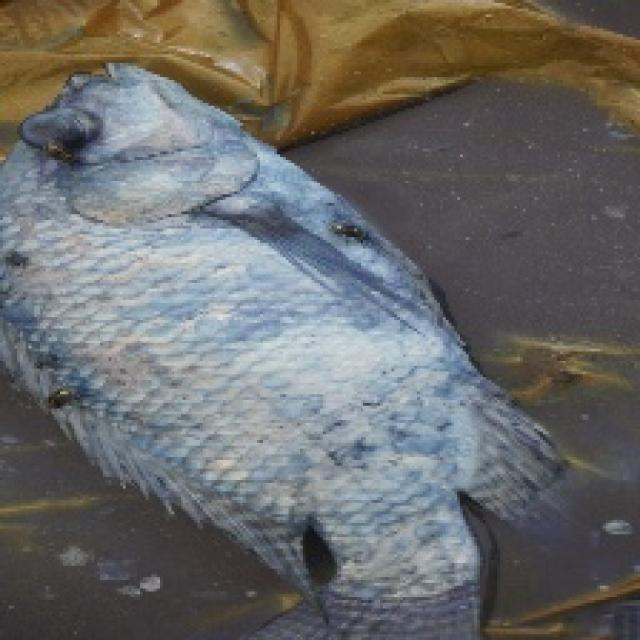Non-Fresh: (14, 56, 456, 619)
